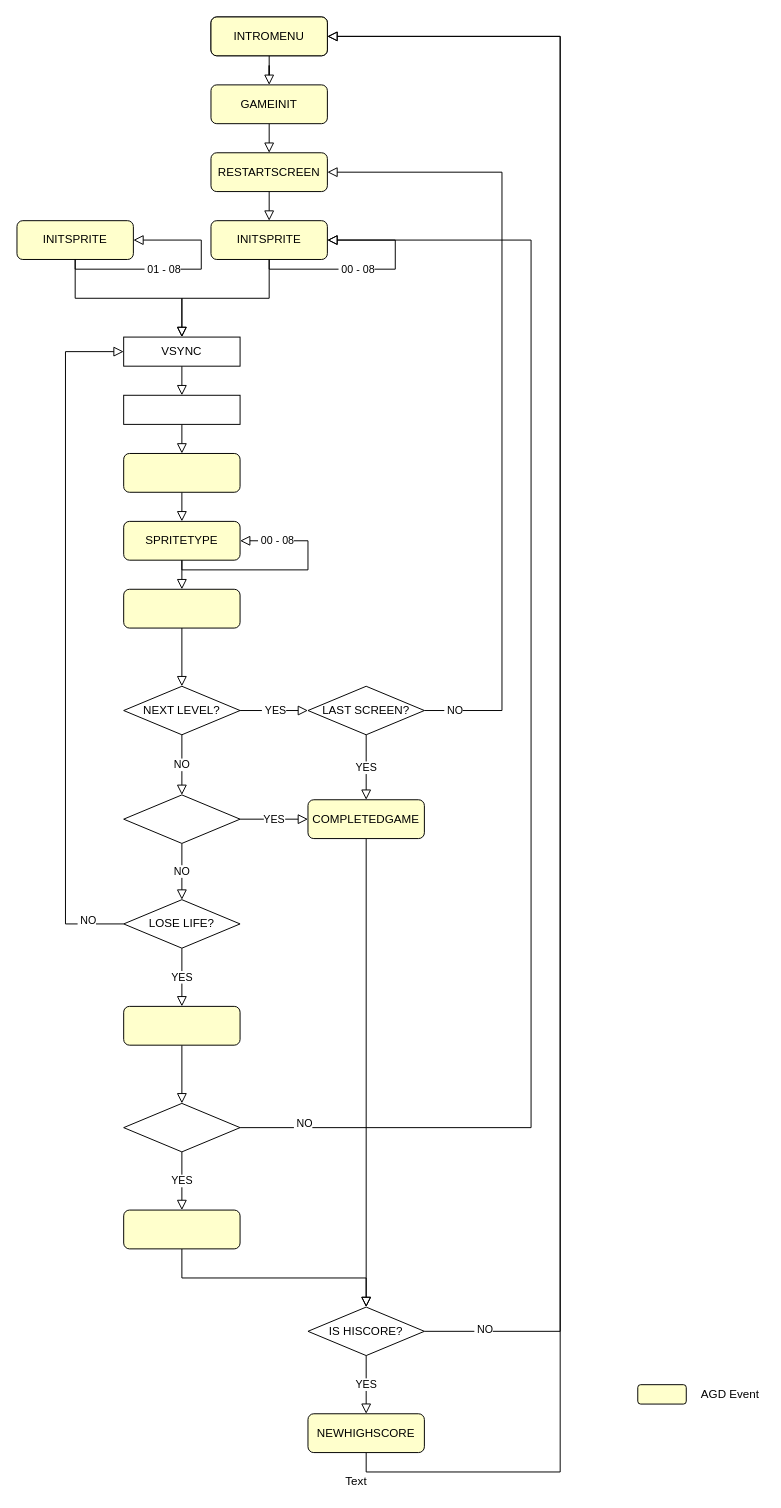
Image size: 781x1508. Some labels were removed from this diagram. Here are the shapes that lost their labels. From the top down, the centre of each, then its label:
the point at 181,409: DISPLAY SPRITES
the point at 181,472: MAINLOOP1
the point at 181,608: MAINLOOP2
the point at 181,818: GAME WON?
the point at 181,1025: KILLPLAYER
the point at 181,1127: LAST LIFE?
the point at 181,1229: LOSTGAME
